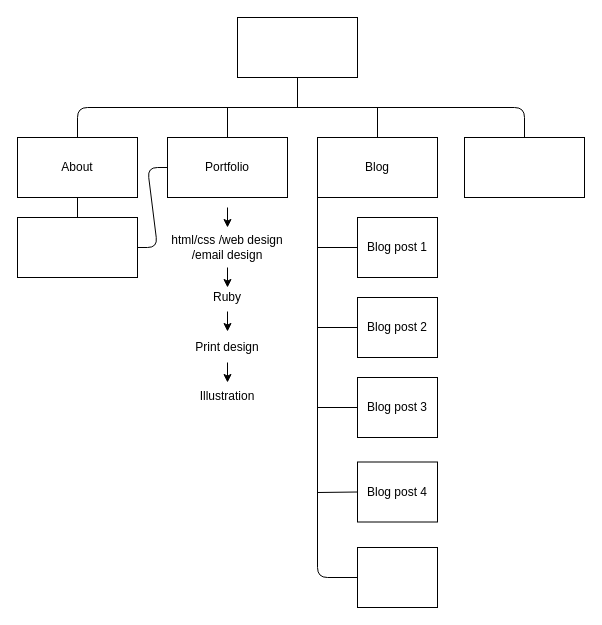
The diagram is 602 pixels wide and 625 high, and some of its shapes have lost their labels. Here are the shapes that lost their labels. From the top down, the box of each, then its label:
(236, 16, 358, 78): Home
(464, 136, 584, 198): Contact
(16, 216, 138, 278): Resume
(356, 546, 438, 608): Blog post 5
